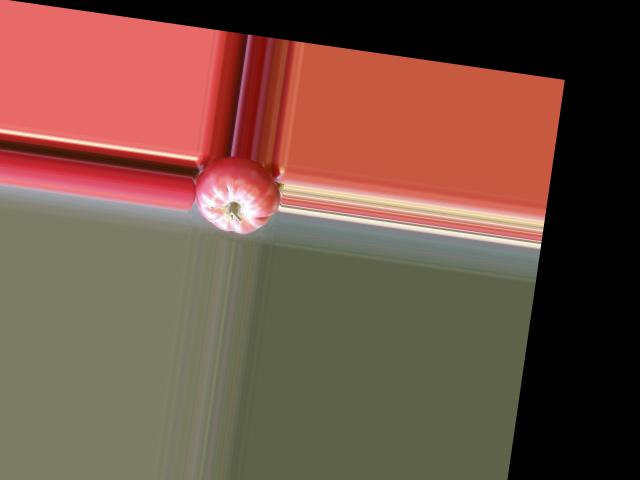tomato: (190, 151, 286, 238)
